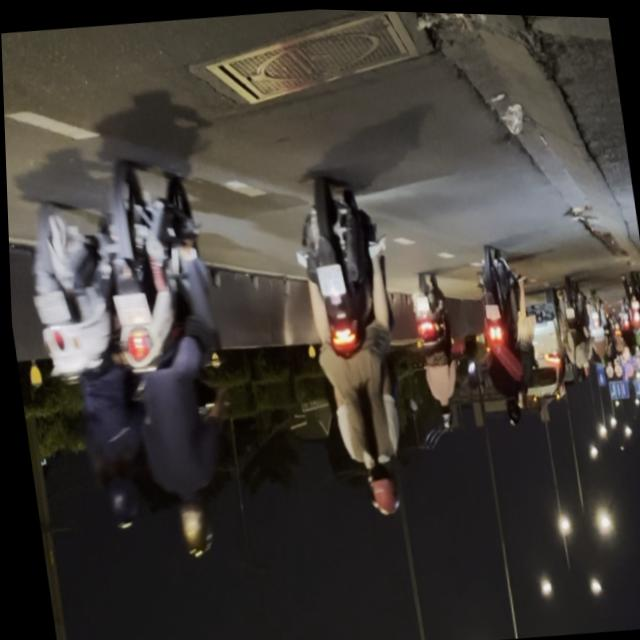helmet: (93, 456, 136, 527), (169, 493, 208, 557), (359, 458, 396, 515)
licenseplate: (86, 143, 247, 564), (11, 193, 154, 542), (280, 171, 419, 523)
nohelmet: (110, 290, 146, 326), (30, 288, 67, 322), (312, 260, 342, 296)
